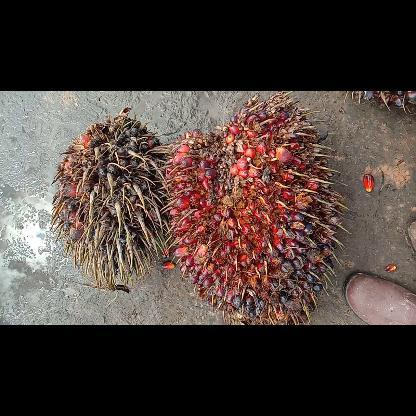TBS abnormal: (49, 106, 169, 289)
TBS masak: (160, 90, 349, 324)
